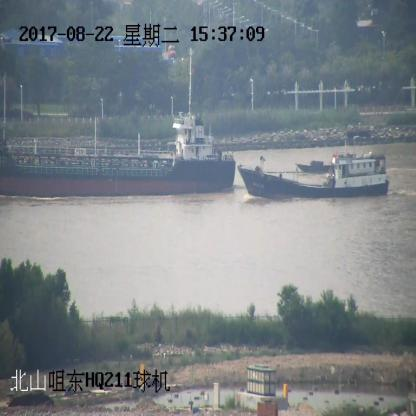Fishing Boat: (240, 150, 389, 198), (297, 162, 331, 173)
